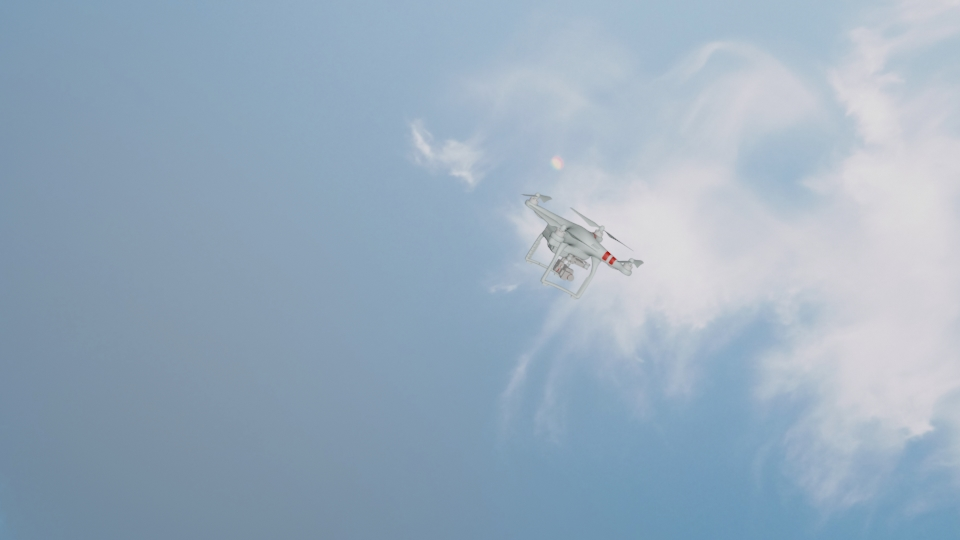drone: (515, 189, 645, 300)
